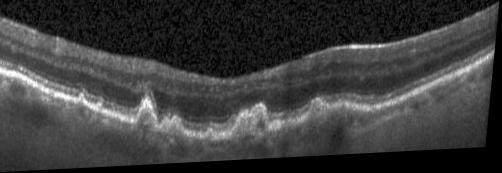retinal_drusen: (301, 106, 373, 137), (233, 111, 270, 145), (139, 104, 158, 131), (160, 121, 185, 137), (208, 133, 219, 143), (97, 105, 104, 115), (80, 99, 85, 107)
